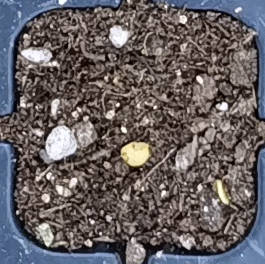chilli seed: (120, 141, 149, 166), (215, 179, 229, 205)
